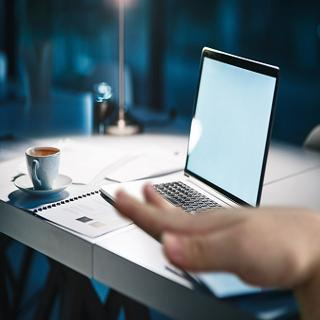Wait: (102, 170, 320, 295)
